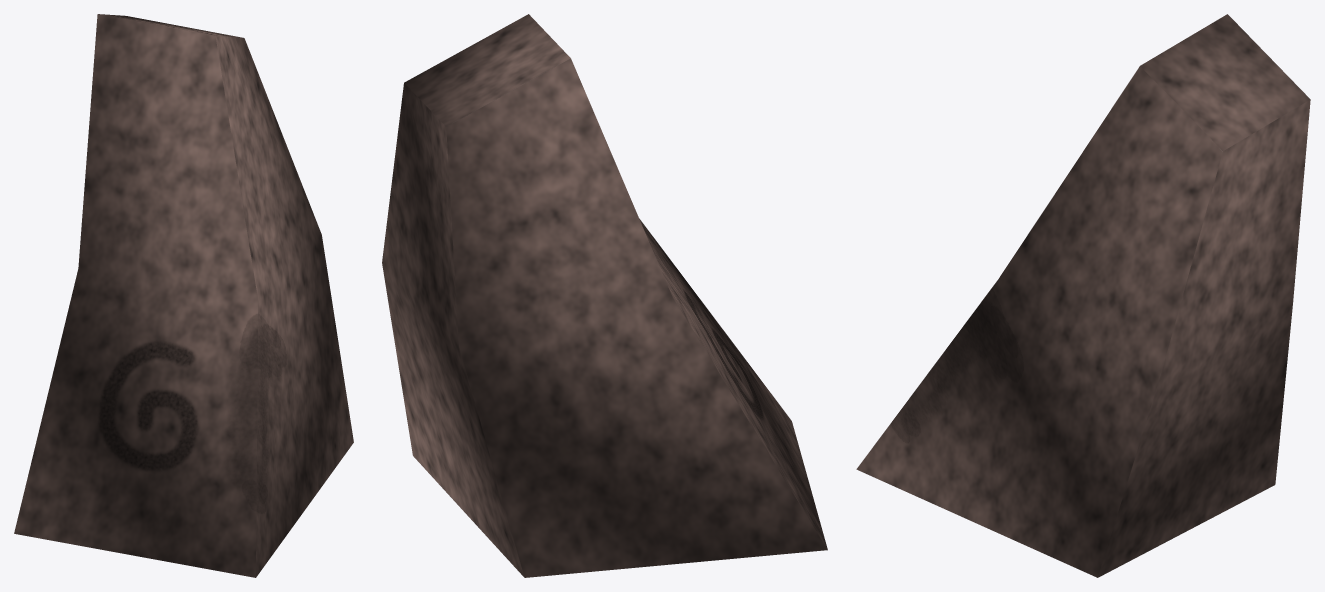
The model's file is tar_henge_04.fbx.
3 views of the same model, side by side, from view 1: azimuth 30°, elevation 25°; view 2: azimuth 150°, elevation 25°; view 3: azimuth 270°, elevation 25° (orthographic). The views are drawn at different scales.
Parts seen in each view (by area): view 1: tar_henge_04; view 2: tar_henge_04; view 3: tar_henge_04.
Part boxes in pixels (x1,y1,x2,y2): tar_henge_04: [14, 14, 353, 577]; tar_henge_04: [382, 14, 827, 577]; tar_henge_04: [856, 14, 1310, 577].
Bounding box in the file's own units: 125 × 149 × 132.
1 material, 1 textured.
